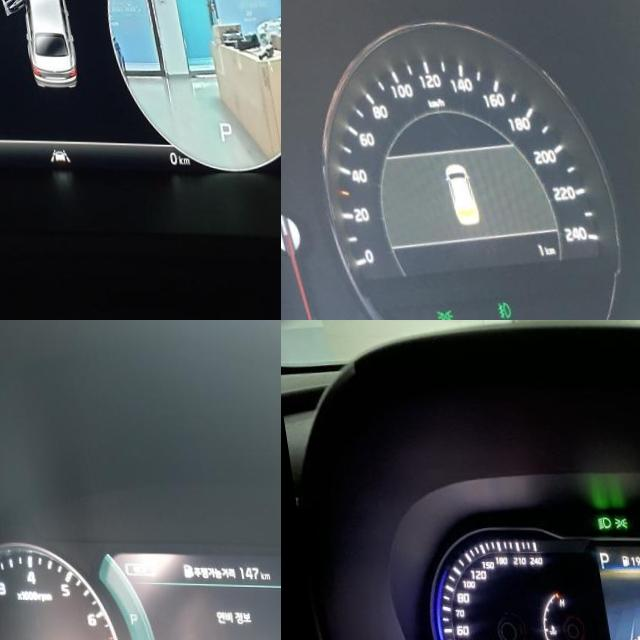FrontFogLight: (481, 297, 498, 317)
Low beam: (588, 514, 604, 528)
SideLamp: (420, 305, 440, 320), (606, 515, 620, 526)
